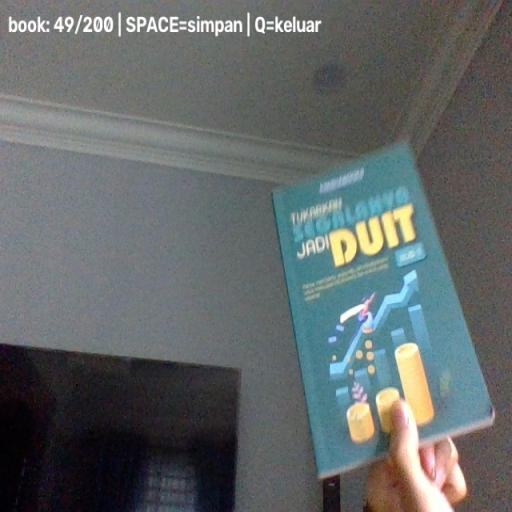Book: (272, 139, 494, 479)
